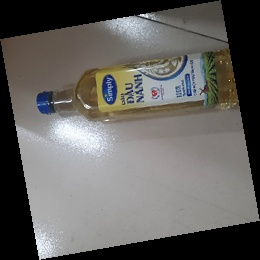Simply: (35, 48, 240, 122)
